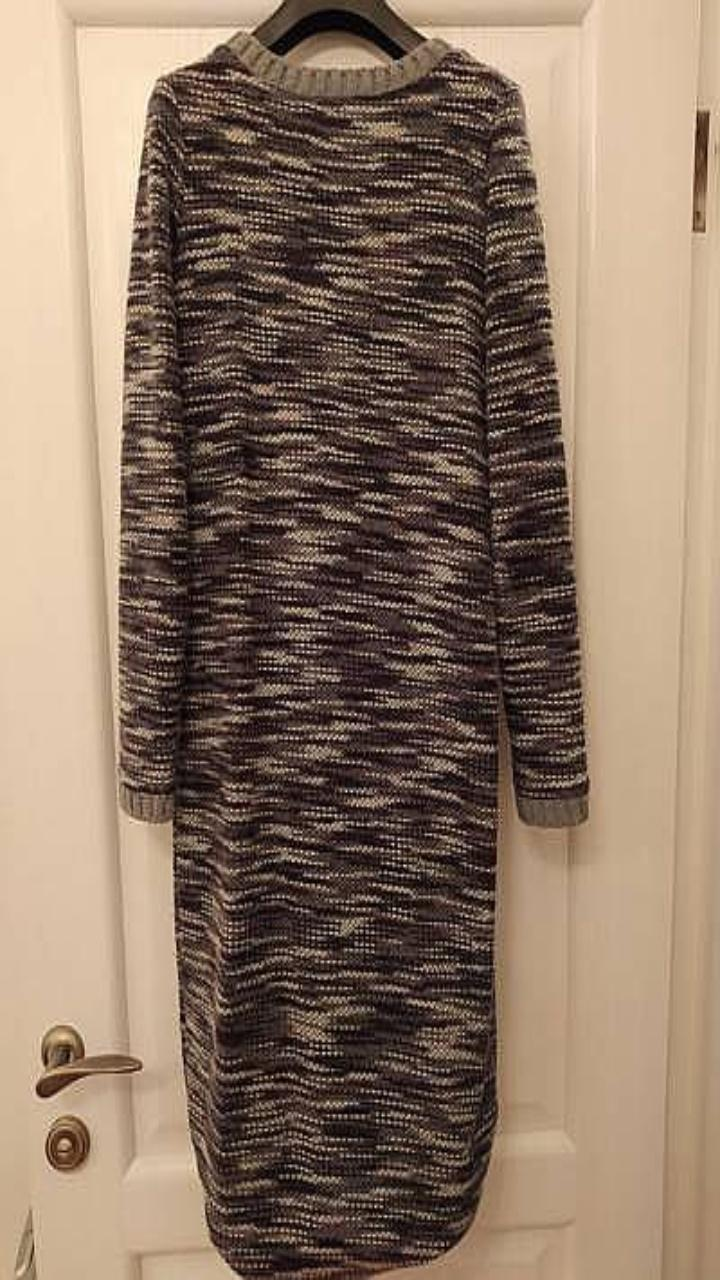Dresses: (118, 31, 588, 1279)
